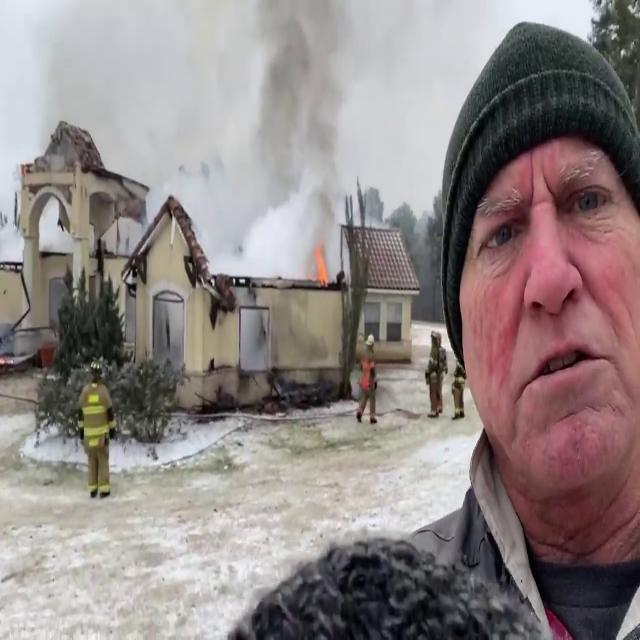Fire: (313, 239, 330, 290)
Smoke: (196, 0, 358, 260)
